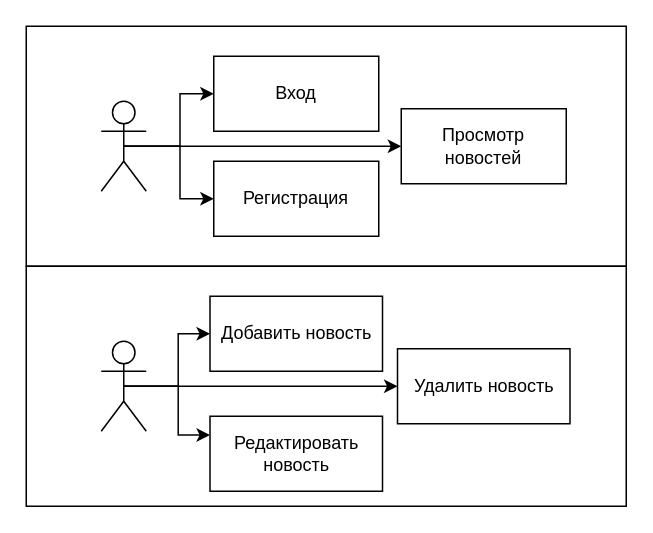
The diagram is 653 pixels wide and 533 high, and some of its shapes have lost their labels. Here are the shapes that lost their labels. From the top down, the centre of each, then its label:
the point at 123,145: Гость
the point at 123,385: Авторизованный пользователь
